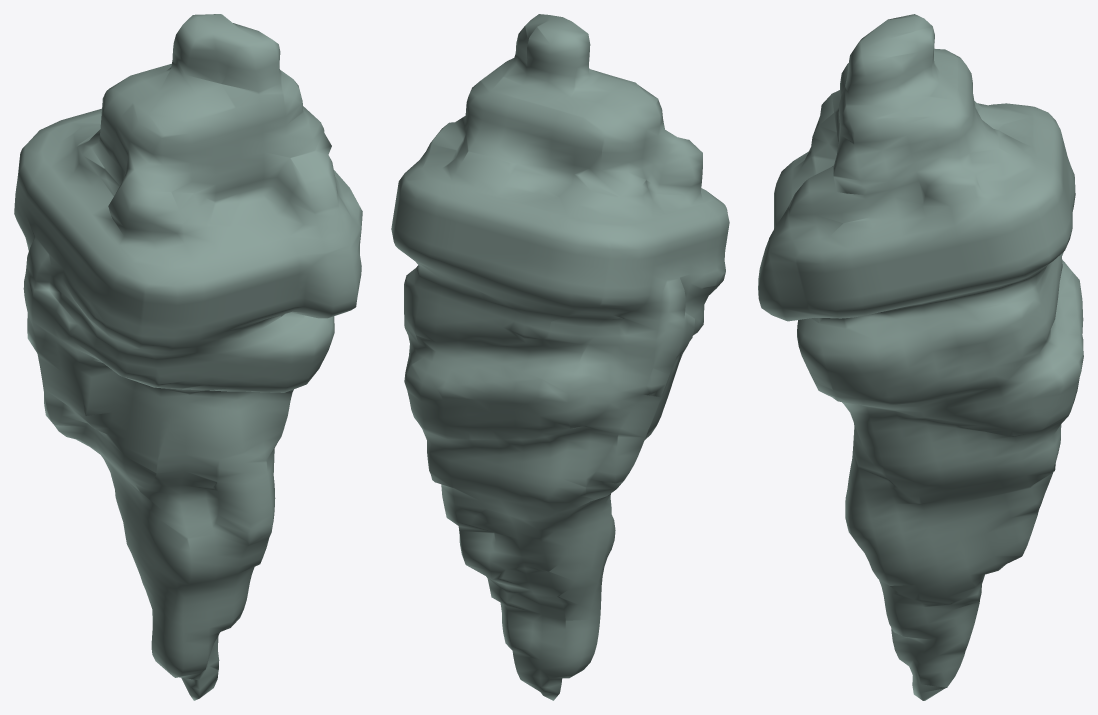
The model's file is IslandRock 1.fbx.
3 views of the same model, side by side, from view 1: azimuth 30°, elevation 25°; view 2: azimuth 150°, elevation 25°; view 3: azimuth 270°, elevation 25° (orthographic). The views are drawn at different scales.
Visible parts, largest first — view 1: Mball; view 2: Mball; view 3: Mball.
Boxes of the visible parts, left/top/right/bottom form: Mball: left=14, top=14, right=362, bottom=700; Mball: left=391, top=14, right=729, bottom=700; Mball: left=758, top=14, right=1083, bottom=700.
Bounding box in the file's own units: 3686 × 8933 × 3862.
